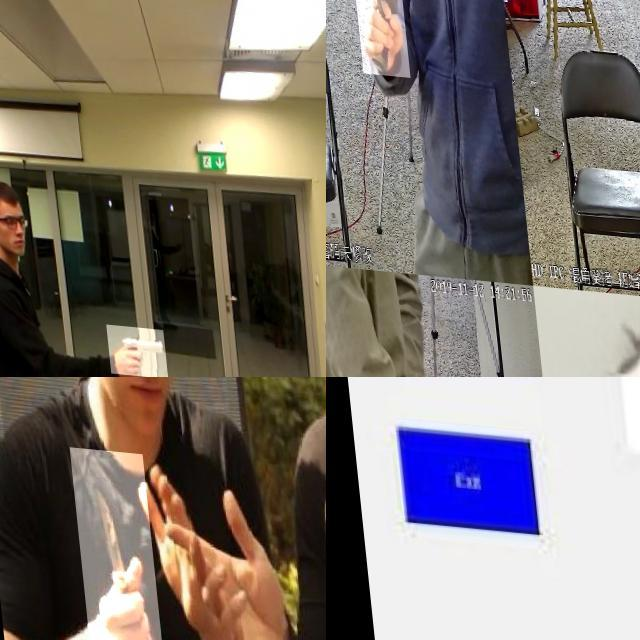-: (62, 445, 152, 640)
gun-knife-thesis - v11 Yolov5 augmented: (351, 0, 407, 73), (98, 318, 159, 371)
